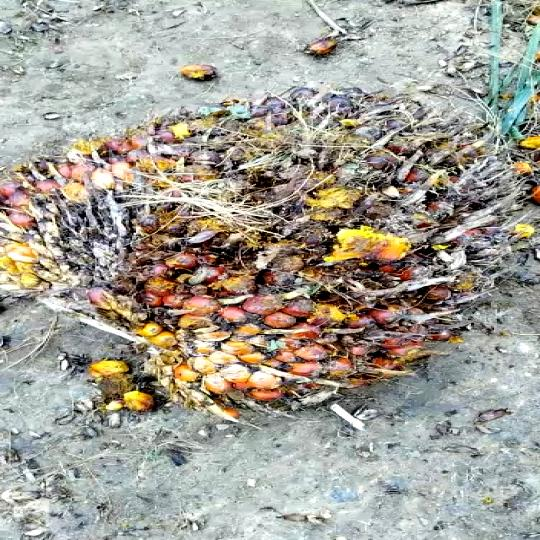masak: (0, 70, 540, 427)
